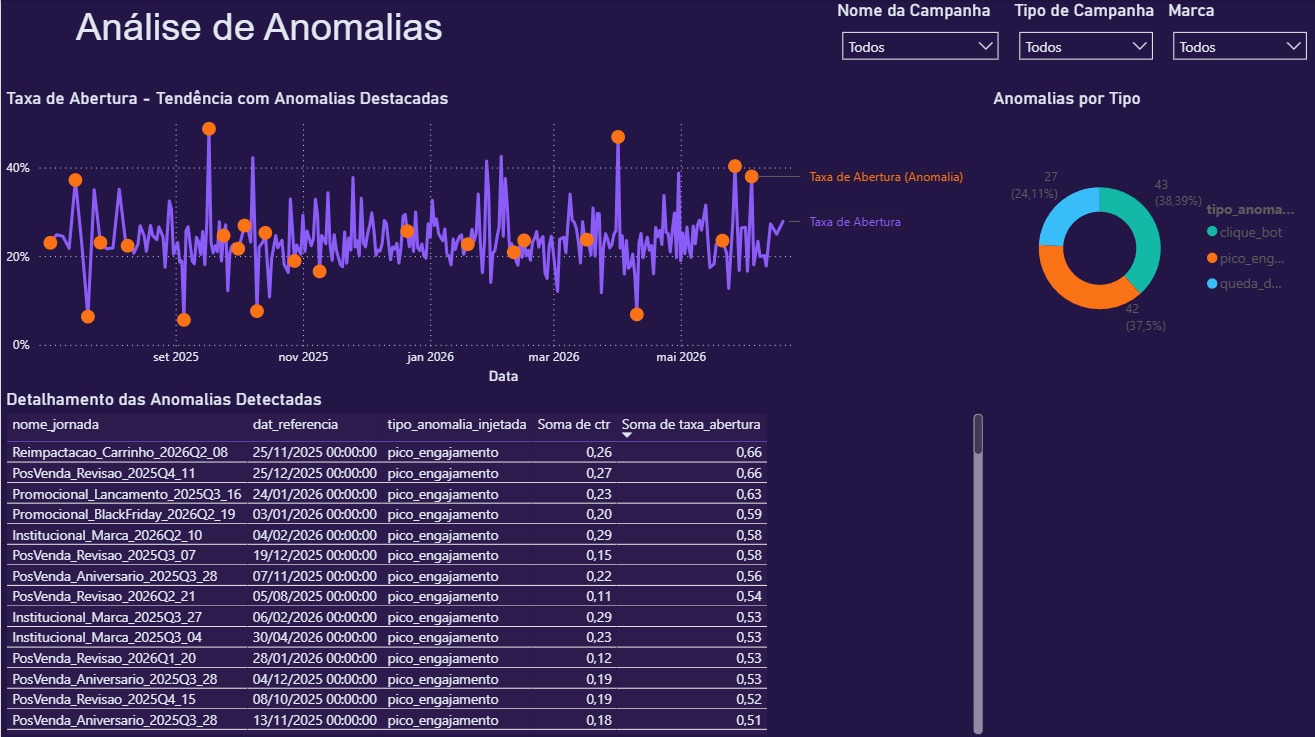

The page's visual inventory and layout, read from the dashboard file:
{"tool":"powerbi","page":{"name":"Análise de Anomalias","canvas":[1280,720],"ordinal":2},"visuals":[{"type":"textbox","box":[0,0,502.9,99.2],"z":0},{"type":"slicer","title":"Tipo de Campanha","fields":{"Values":["dim_campanha.tipo_campanha"]},"box":[980.4,0,149.8,85.6],"z":1000},{"type":"slicer","title":"Marca","fields":{"Values":["dim_marca.nome_marca"]},"box":[1130.2,0,149.8,85.6],"z":2000},{"type":"lineChart","title":"Taxa de Abertura - Tendência com Anomalias Destacadas","fields":{"Category":["dim_data.dat_referencia"],"Y":["fato_agregado_diario.Taxa de Abertura","fato_anomalias.Taxa de Abertura (Anomalia)"]},"box":[0,85.6,960,292.8],"z":3000},{"type":"tableEx","title":"Detalhamento das Anomalias Detectadas","fields":{"Values":["dim_campanha.nome_jornada","dim_data.dat_referencia","fato_anomalias.tipo_anomalia_injetada","Sum(fato_anomalias.ctr)","Sum(fato_anomalias.taxa_abertura)"]},"box":[0,378.4,960,341.4],"z":4000},{"type":"donutChart","title":"Anomalias por Tipo","fields":{"Category":["fato_anomalias.tipo_anomalia_injetada"],"Y":["fato_anomalias.Total Anomalias"]},"box":[960,85.6,307.4,292.8],"z":5000},{"type":"slicer","title":"Nome da Campanha","fields":{"Values":["dim_campanha.nome_jornada"]},"box":[808.3,0,172.2,85.6],"z":6000}]}

Visuals, with their boxes in screenshot pixels (x1, y1, x2, y2), scaled from the page's 1280x720 canvas onto the 1315x737 screenshot:
textbox: rect(0, 0, 517, 102)
"Tipo de Campanha" slicer: rect(1007, 0, 1161, 88)
"Marca" slicer: rect(1161, 0, 1314, 88)
"Taxa de Abertura - Tendência com Anomalias Destacadas" lineChart: rect(0, 88, 986, 387)
"Detalhamento das Anomalias Detectadas" tableEx: rect(0, 387, 986, 736)
"Anomalias por Tipo" donutChart: rect(986, 88, 1302, 387)
"Nome da Campanha" slicer: rect(830, 0, 1007, 88)
